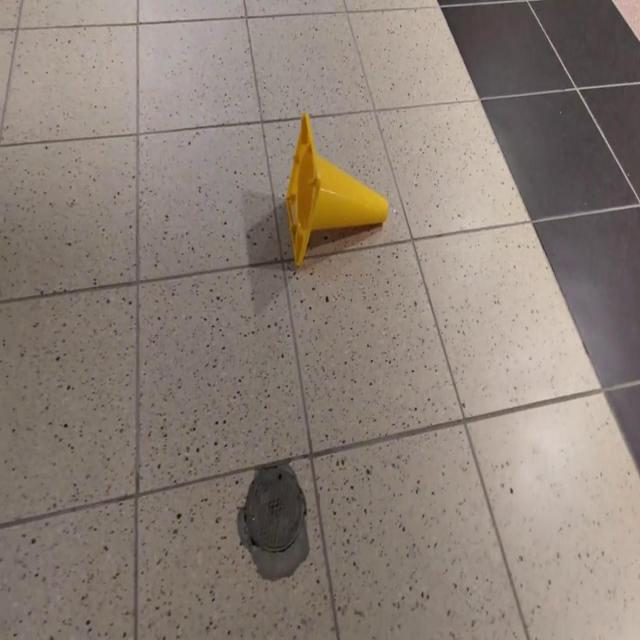frc_cone: (284, 113, 389, 271)
